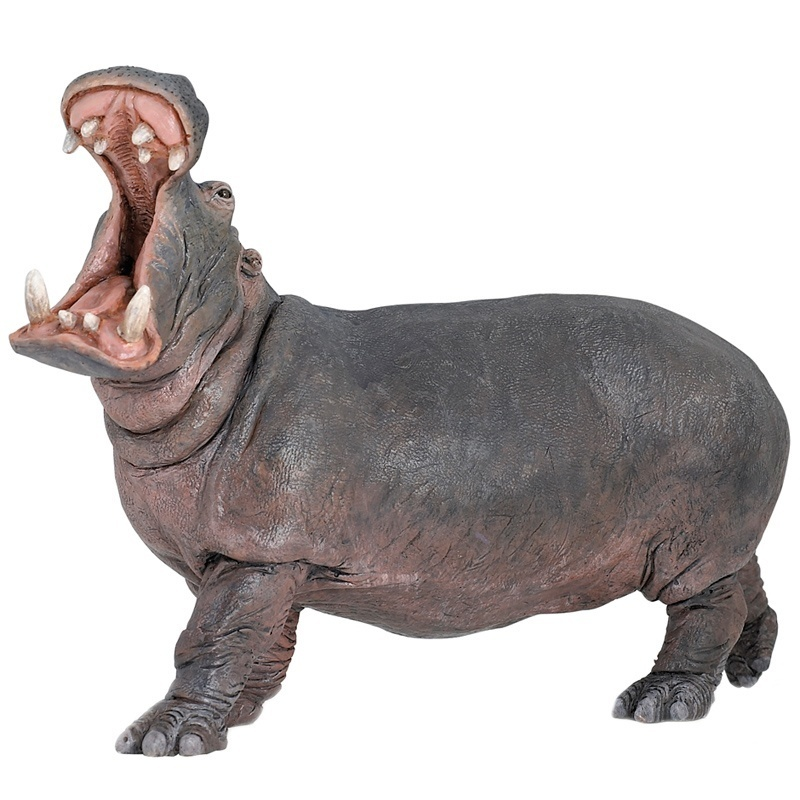hipopotamo: (2, 33, 794, 758)
